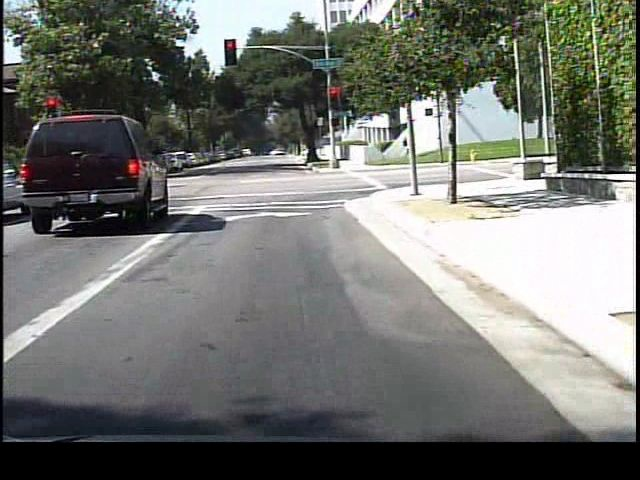person: (399, 127, 420, 167)
